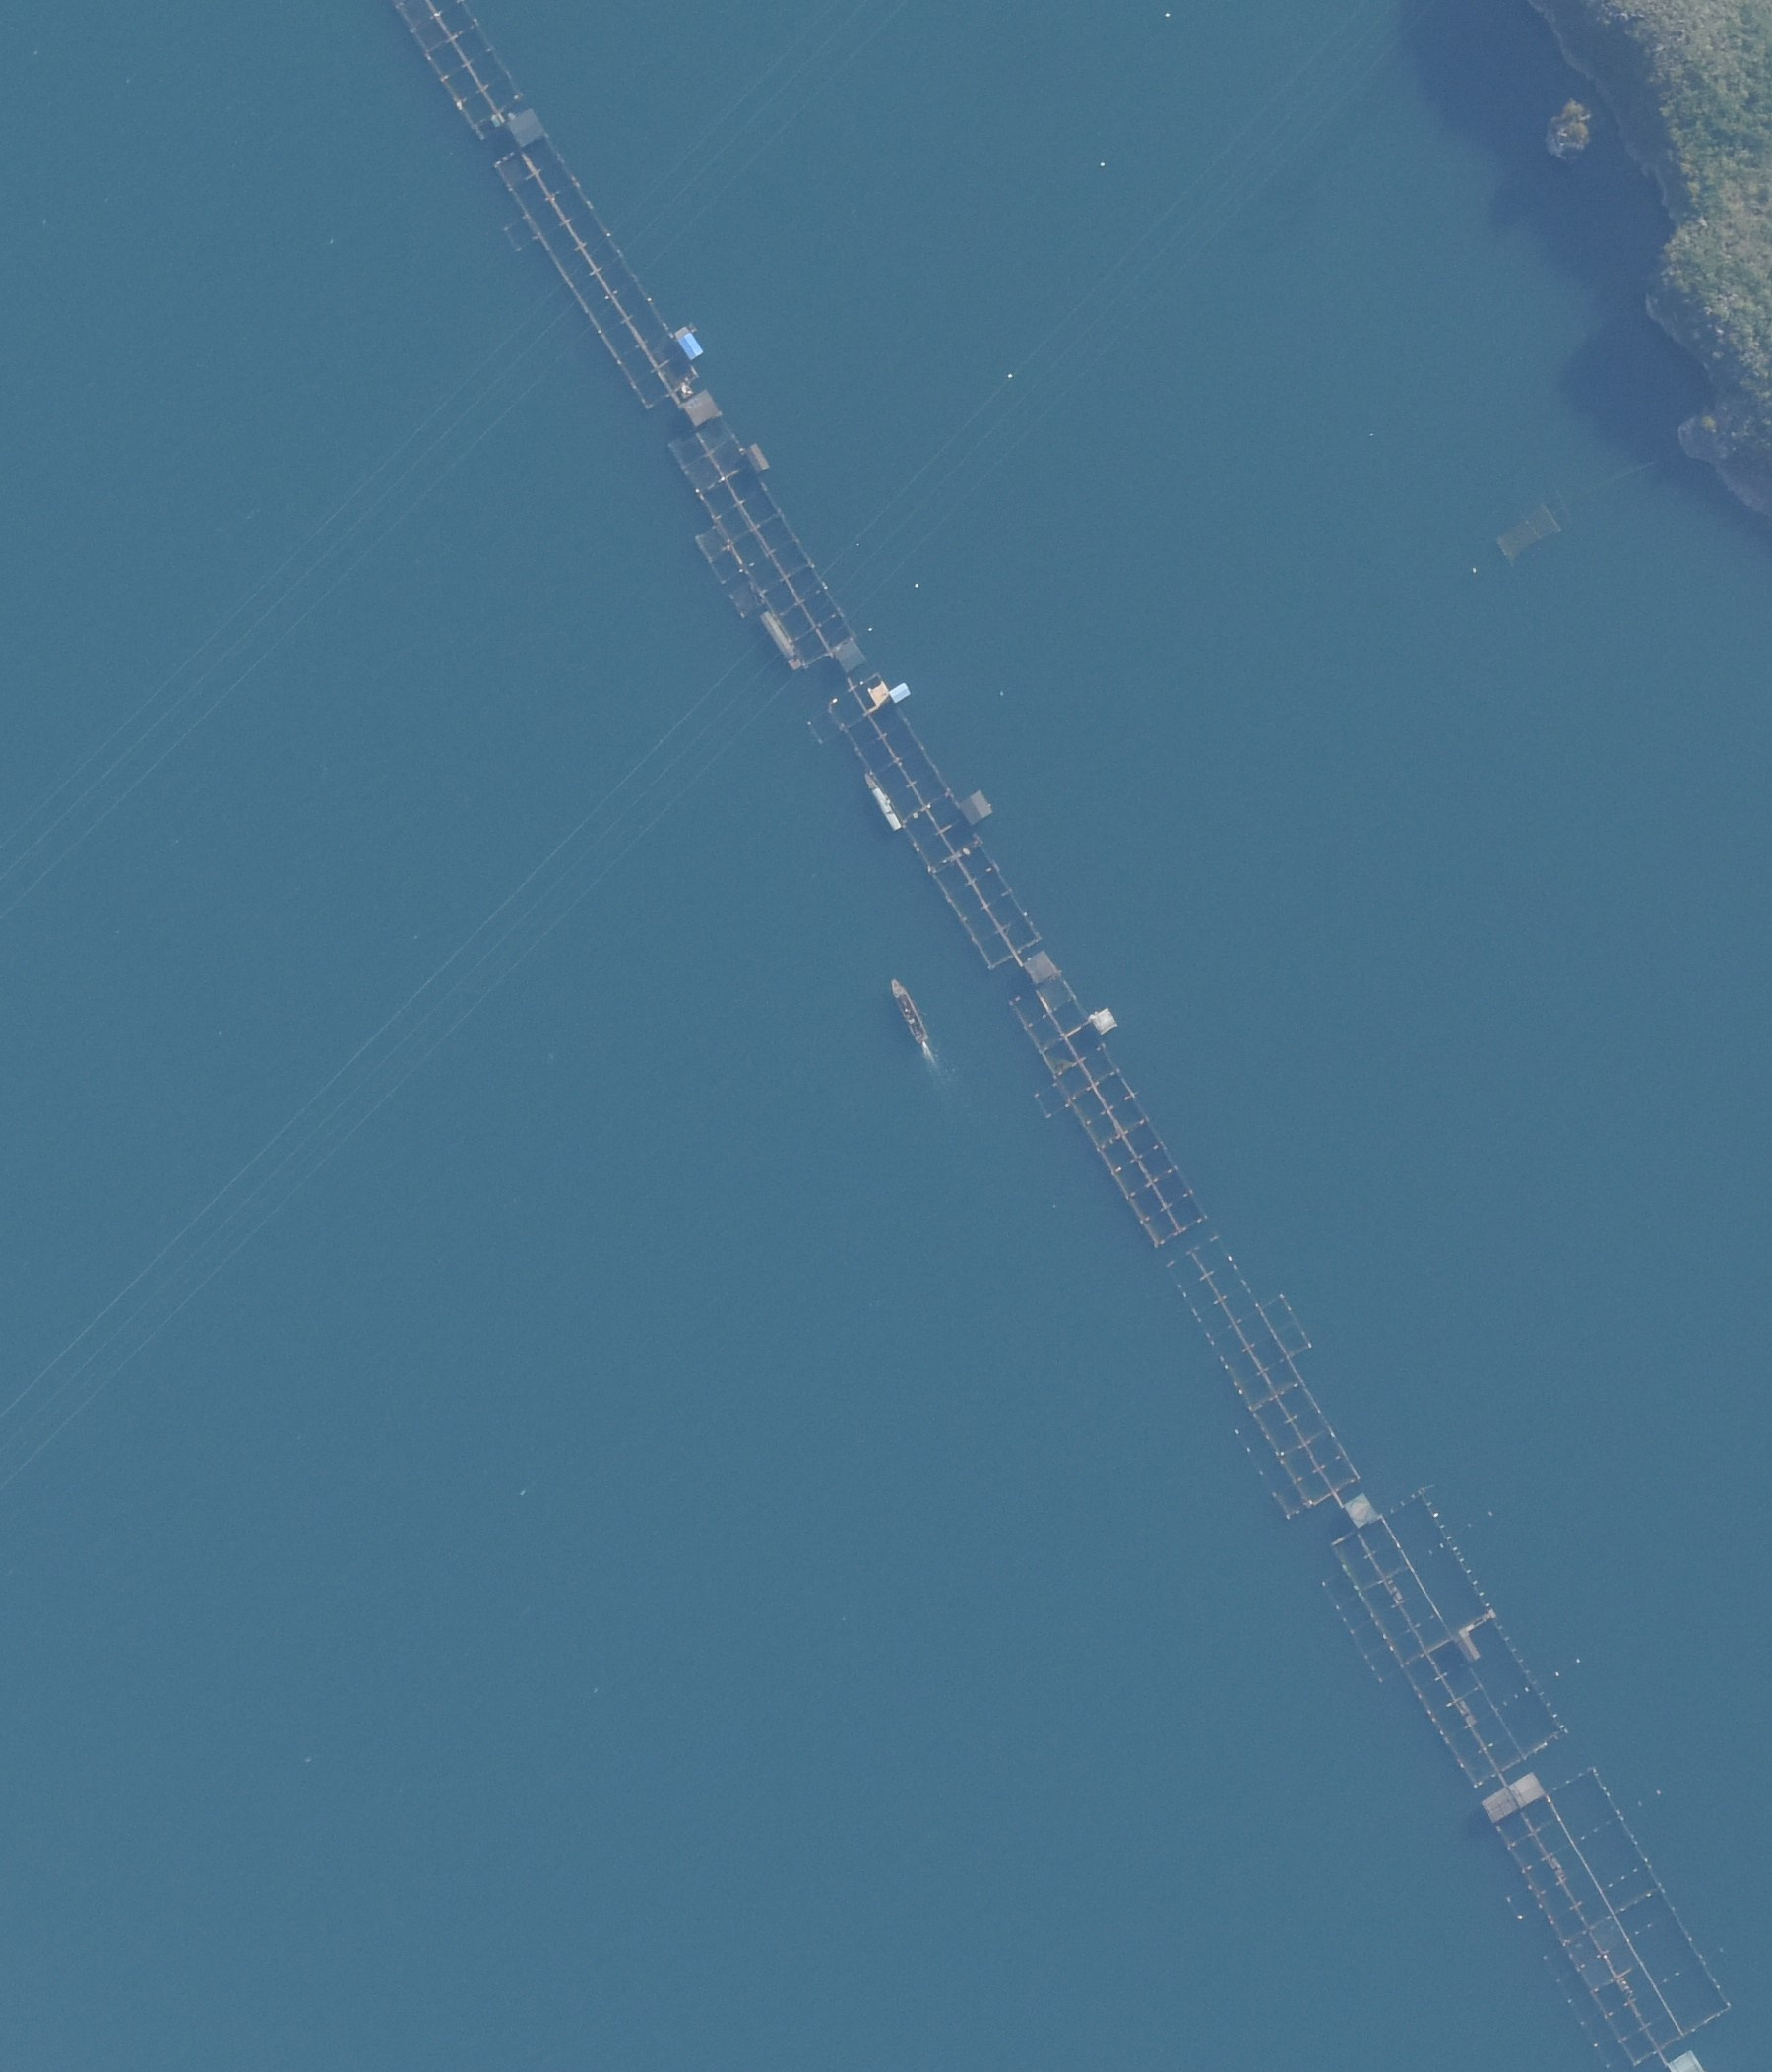cultivation-mesh-cage: (1322, 1490, 1730, 2061), (807, 673, 1044, 968), (494, 134, 700, 411), (1164, 1234, 1361, 1522), (1009, 972, 1208, 1242), (668, 413, 860, 673), (390, 4, 526, 141), (1484, 497, 1572, 568)
prefabricated-house: (1482, 1771, 1543, 1824), (759, 610, 805, 673), (505, 105, 547, 146), (682, 388, 721, 427), (1023, 947, 1058, 986), (1340, 1494, 1380, 1525), (956, 791, 993, 824), (833, 638, 865, 673), (742, 441, 772, 476), (1454, 1627, 1482, 1664), (1090, 1005, 1116, 1037), (1667, 2051, 1702, 2072), (679, 329, 701, 360), (868, 678, 890, 708), (890, 682, 912, 703)
ship: (891, 972, 933, 1054), (863, 773, 907, 831)
